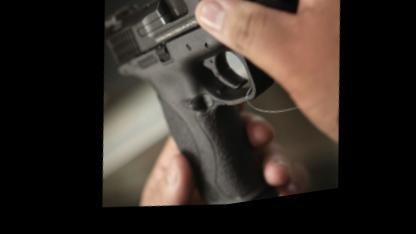pistol: (77, 0, 321, 222)
